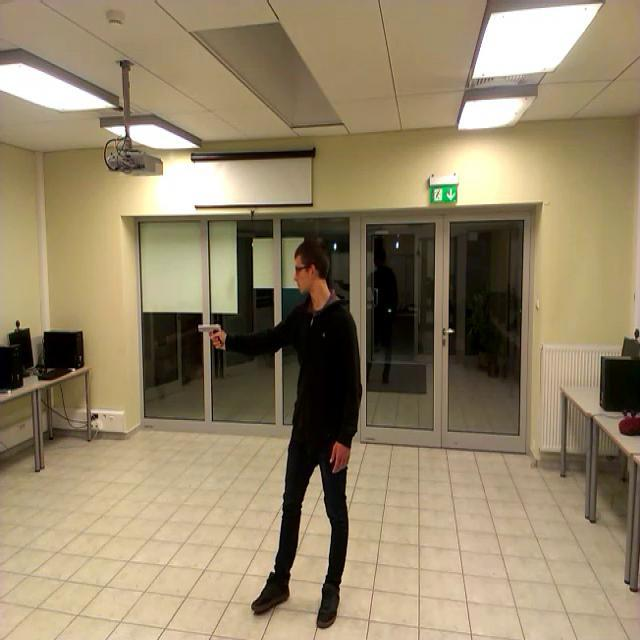Gun: (198, 323, 222, 345)
